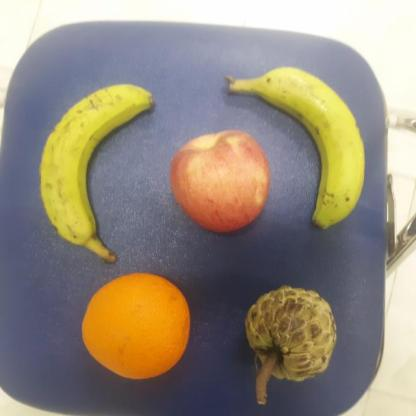annona: (243, 284, 337, 381)
apple: (169, 128, 270, 233)
banana: (225, 68, 365, 232), (40, 84, 154, 264)
orange: (82, 273, 190, 379)
